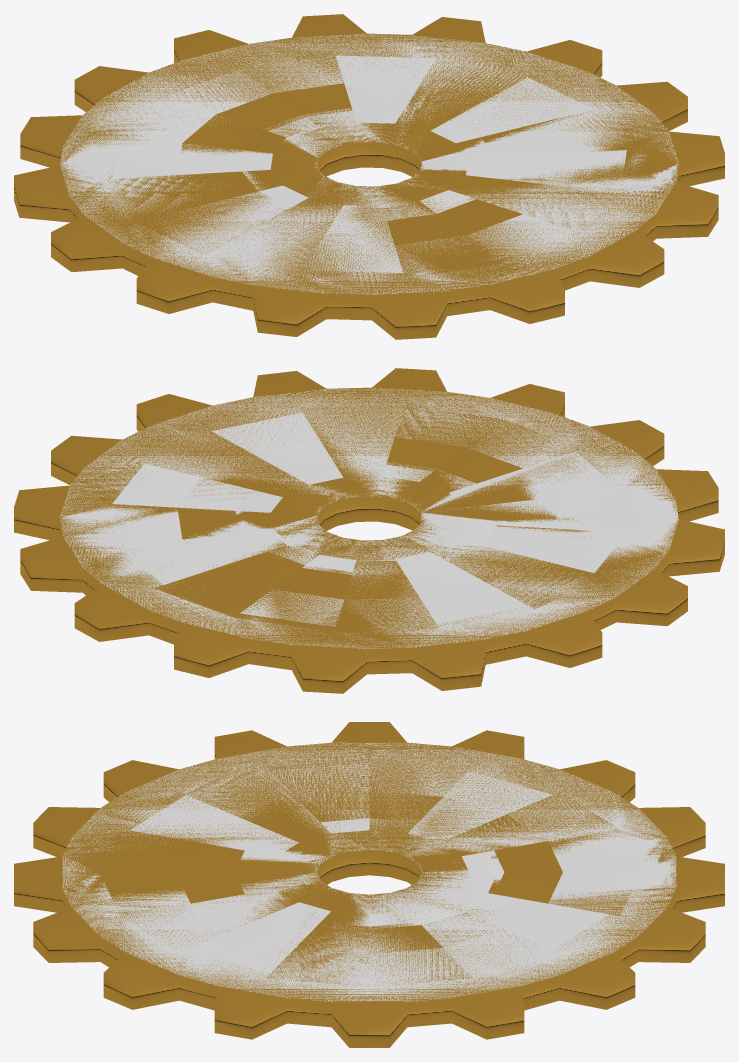
Rendered from Gears.fbx.
3 views of the same model, one above another, from view 1: azimuth 30°, elevation 25°; view 2: azimuth 150°, elevation 25°; view 3: azimuth 270°, elevation 25° (orthographic).
Parts seen in each view (by area): view 1: Gear_01, Gear_05, Gear_02, Gear_03, Gear_04; view 2: Gear_01, Gear_02, Gear_05, Gear_04, Gear_03; view 3: Gear_01, Gear_02, Gear_05, Gear_03, Gear_04.
Boxes of the visible parts, x1,y1,x2,y2 form: Gear_01: [14, 14, 724, 339]; Gear_05: [60, 34, 678, 294]; Gear_02: [60, 33, 677, 294]; Gear_03: [60, 34, 677, 294]; Gear_04: [60, 34, 677, 294]; Gear_01: [14, 368, 724, 693]; Gear_02: [62, 387, 678, 648]; Gear_05: [60, 388, 678, 647]; Gear_04: [60, 388, 677, 648]; Gear_03: [62, 387, 677, 648]; Gear_01: [14, 722, 724, 1047]; Gear_02: [62, 742, 676, 1001]; Gear_05: [62, 743, 676, 1001]; Gear_03: [62, 742, 676, 1001]; Gear_04: [62, 743, 676, 1001].
Size of the model in its own units: 330 by 12.94 by 330.
